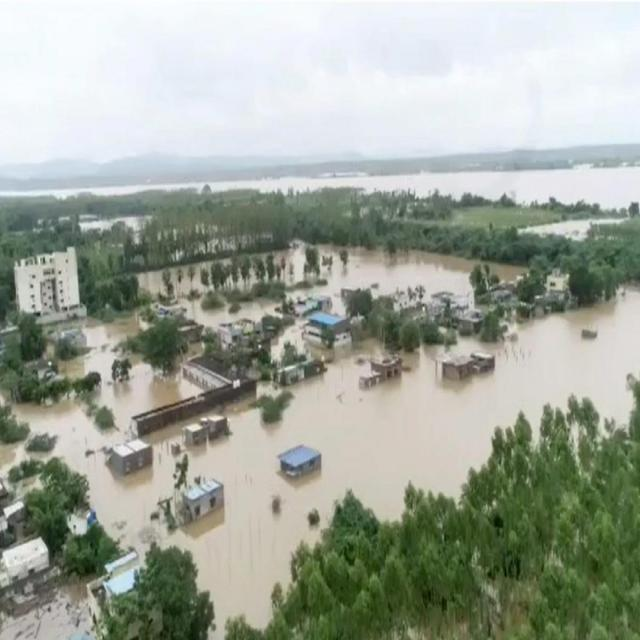flood: (161, 288, 640, 640), (0, 316, 184, 550), (137, 244, 483, 329), (0, 168, 640, 207), (0, 587, 95, 640)
house: (14, 254, 86, 329), (0, 535, 54, 604), (90, 548, 140, 596), (176, 479, 225, 524), (304, 310, 352, 348), (106, 438, 150, 478), (279, 443, 323, 480), (183, 357, 235, 387), (220, 318, 264, 348), (188, 416, 229, 444), (444, 352, 476, 380), (371, 353, 403, 381), (546, 268, 571, 294), (458, 307, 482, 333)
